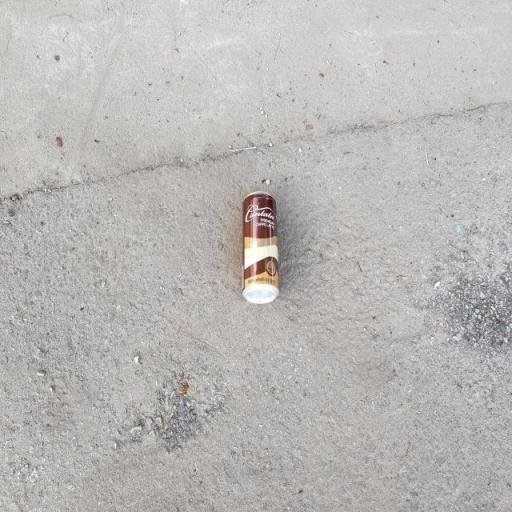metal: (232, 187, 284, 319)
